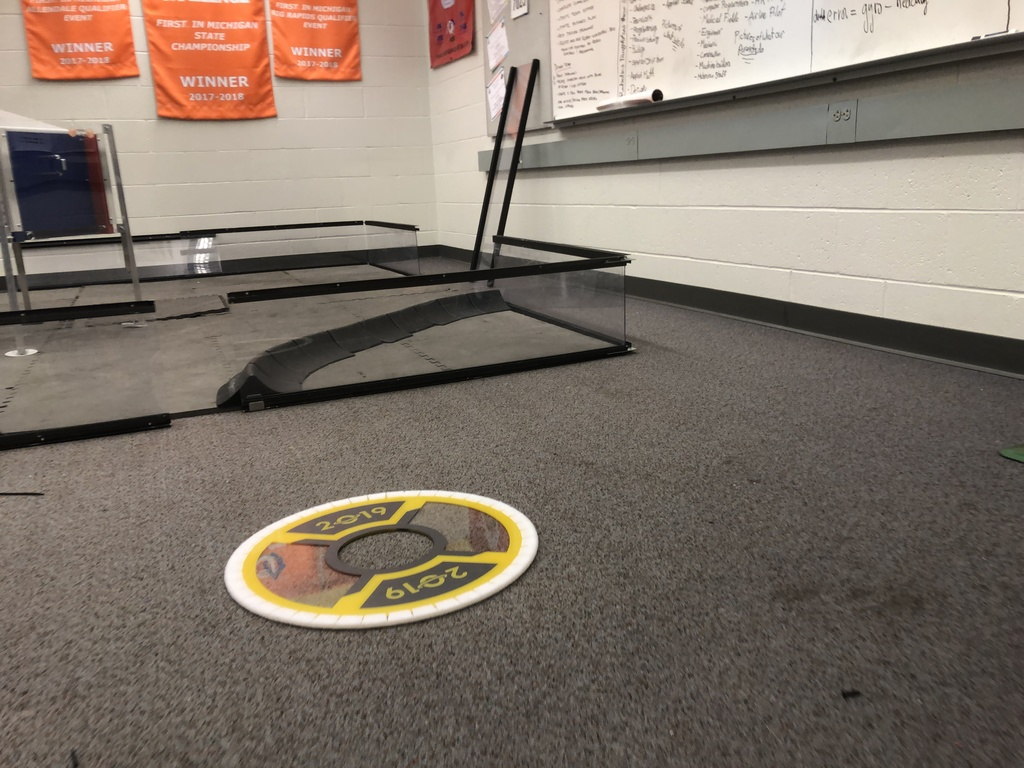hatch_panel: (201, 477, 552, 609)
